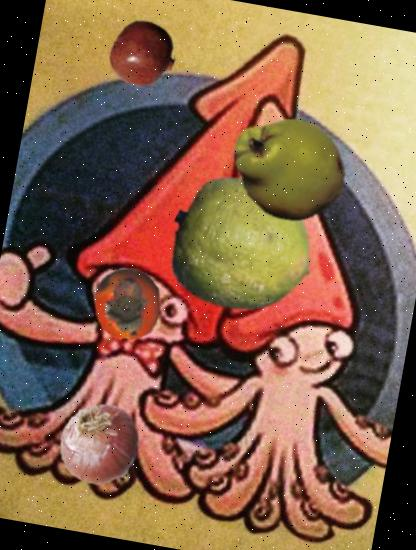Kaki: (85, 262, 171, 348)
Limes: (156, 164, 324, 332)
Onion: (46, 390, 151, 496)
Pomegranate: (104, 15, 183, 94)
Quince: (219, 97, 358, 236)
